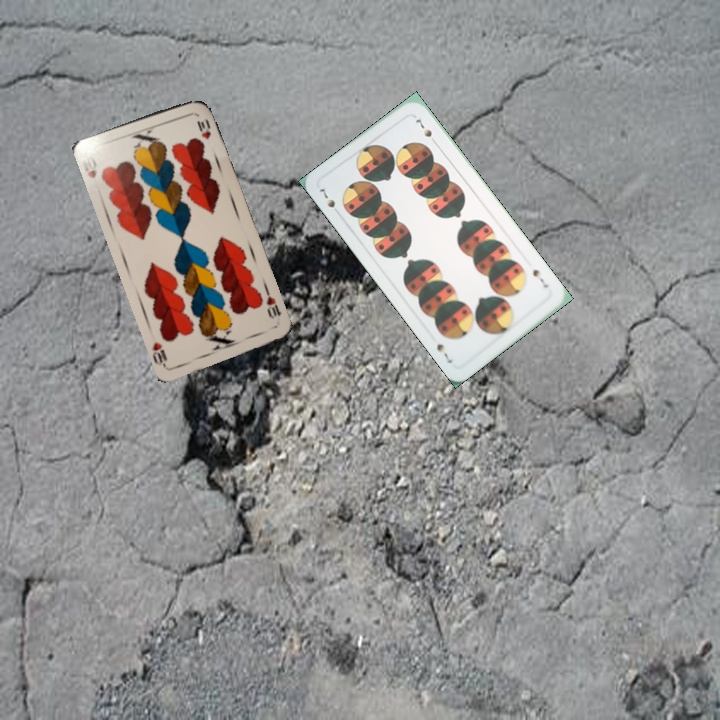H10: (262, 285, 284, 321), (78, 151, 99, 181)
S7: (314, 184, 344, 219), (528, 264, 551, 290)
